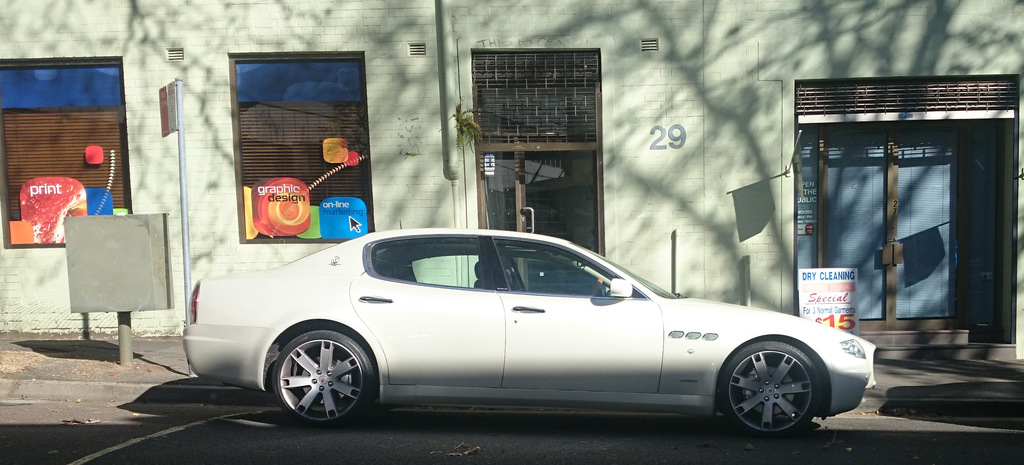cars: (184, 227, 877, 442)
